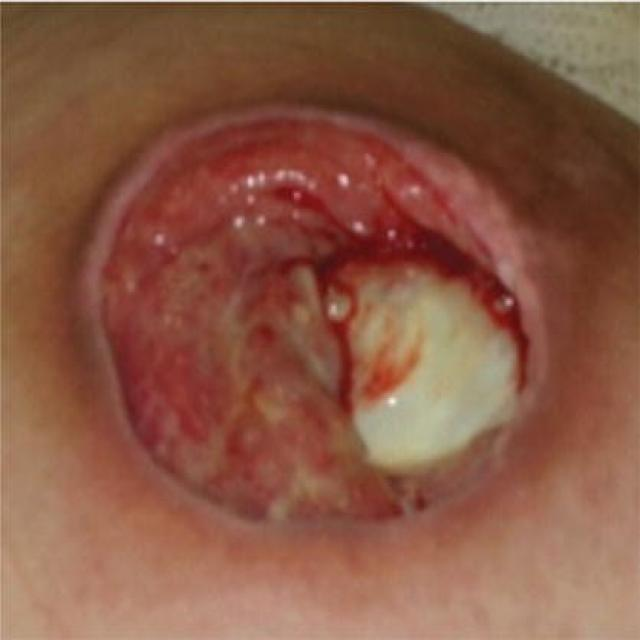stage-4: (101, 106, 546, 524)
